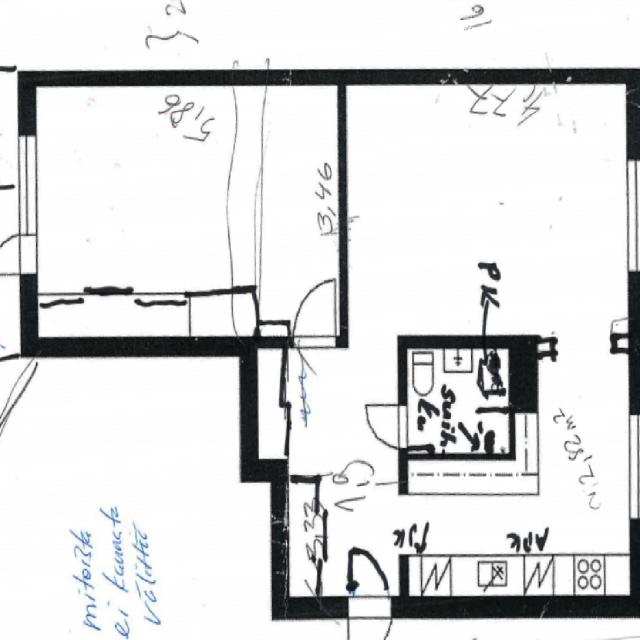door: (347, 537, 392, 619), (292, 282, 336, 348), (365, 405, 408, 448), (0, 234, 35, 274)
